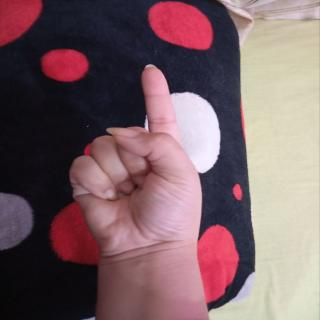BAA: (60, 60, 214, 263)
